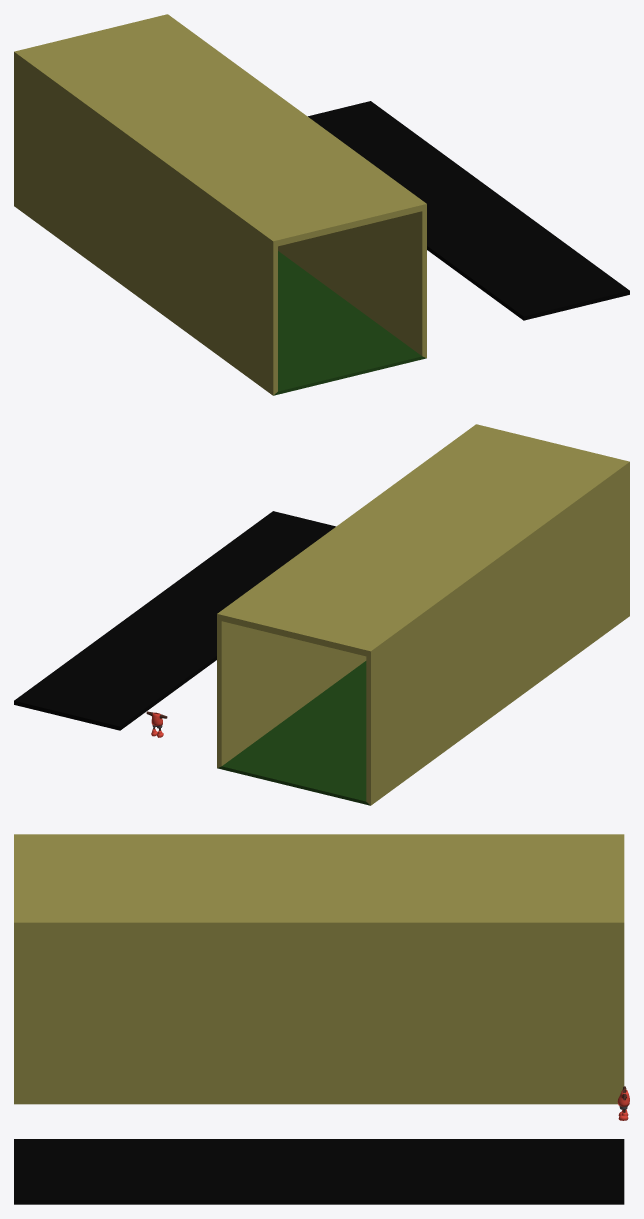
Rendered from Cenario-V1 (2).fbx.
3 views of the same model, one above another, from view 1: azimuth 30°, elevation 25°; view 2: azimuth 150°, elevation 25°; view 3: azimuth 270°, elevation 25° (orthographic). The views are drawn at different scales.
Visible parts, largest first — view 1: Paredes/teto, esteira; view 2: Paredes/teto, esteira; view 3: Paredes/teto, esteira.
Boxes of the visible parts, box(x1,y1,x2,y2) form: Paredes/teto: box(14, 14, 426, 395); esteira: box(308, 101, 629, 320); Paredes/teto: box(217, 424, 629, 805); esteira: box(14, 511, 335, 730); Paredes/teto: box(14, 834, 624, 1104); esteira: box(14, 1139, 624, 1204).
Size of the model in its own units: 481 by 199 by 611.
